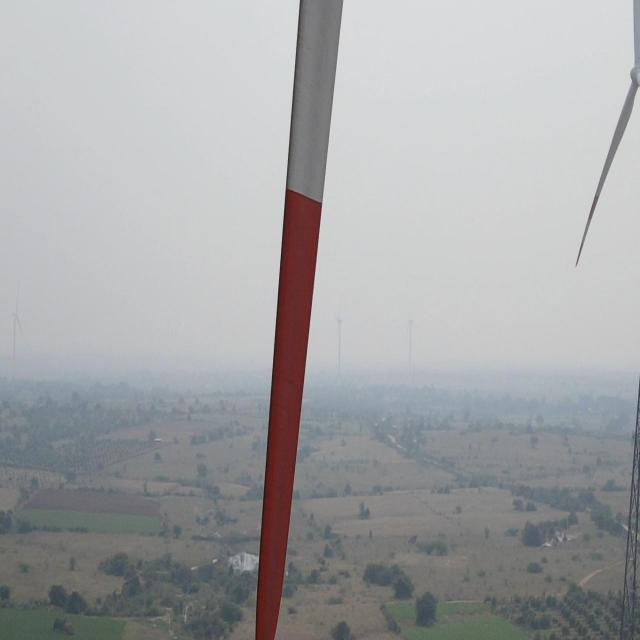Dirt: (258, 0, 344, 639)
